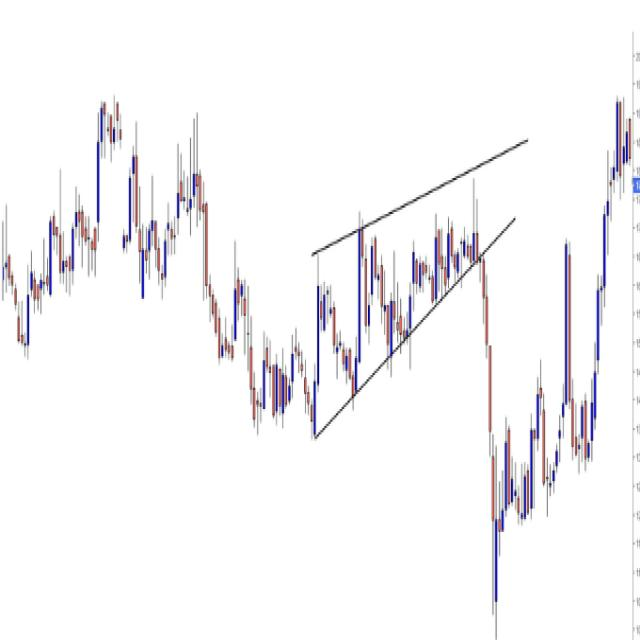Rising-Wedge: (200, 143, 552, 498)
